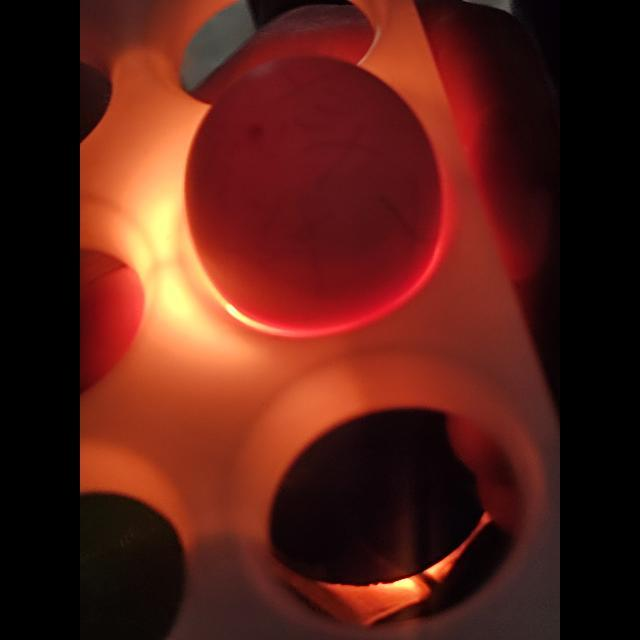Fertile: (187, 53, 456, 323)
